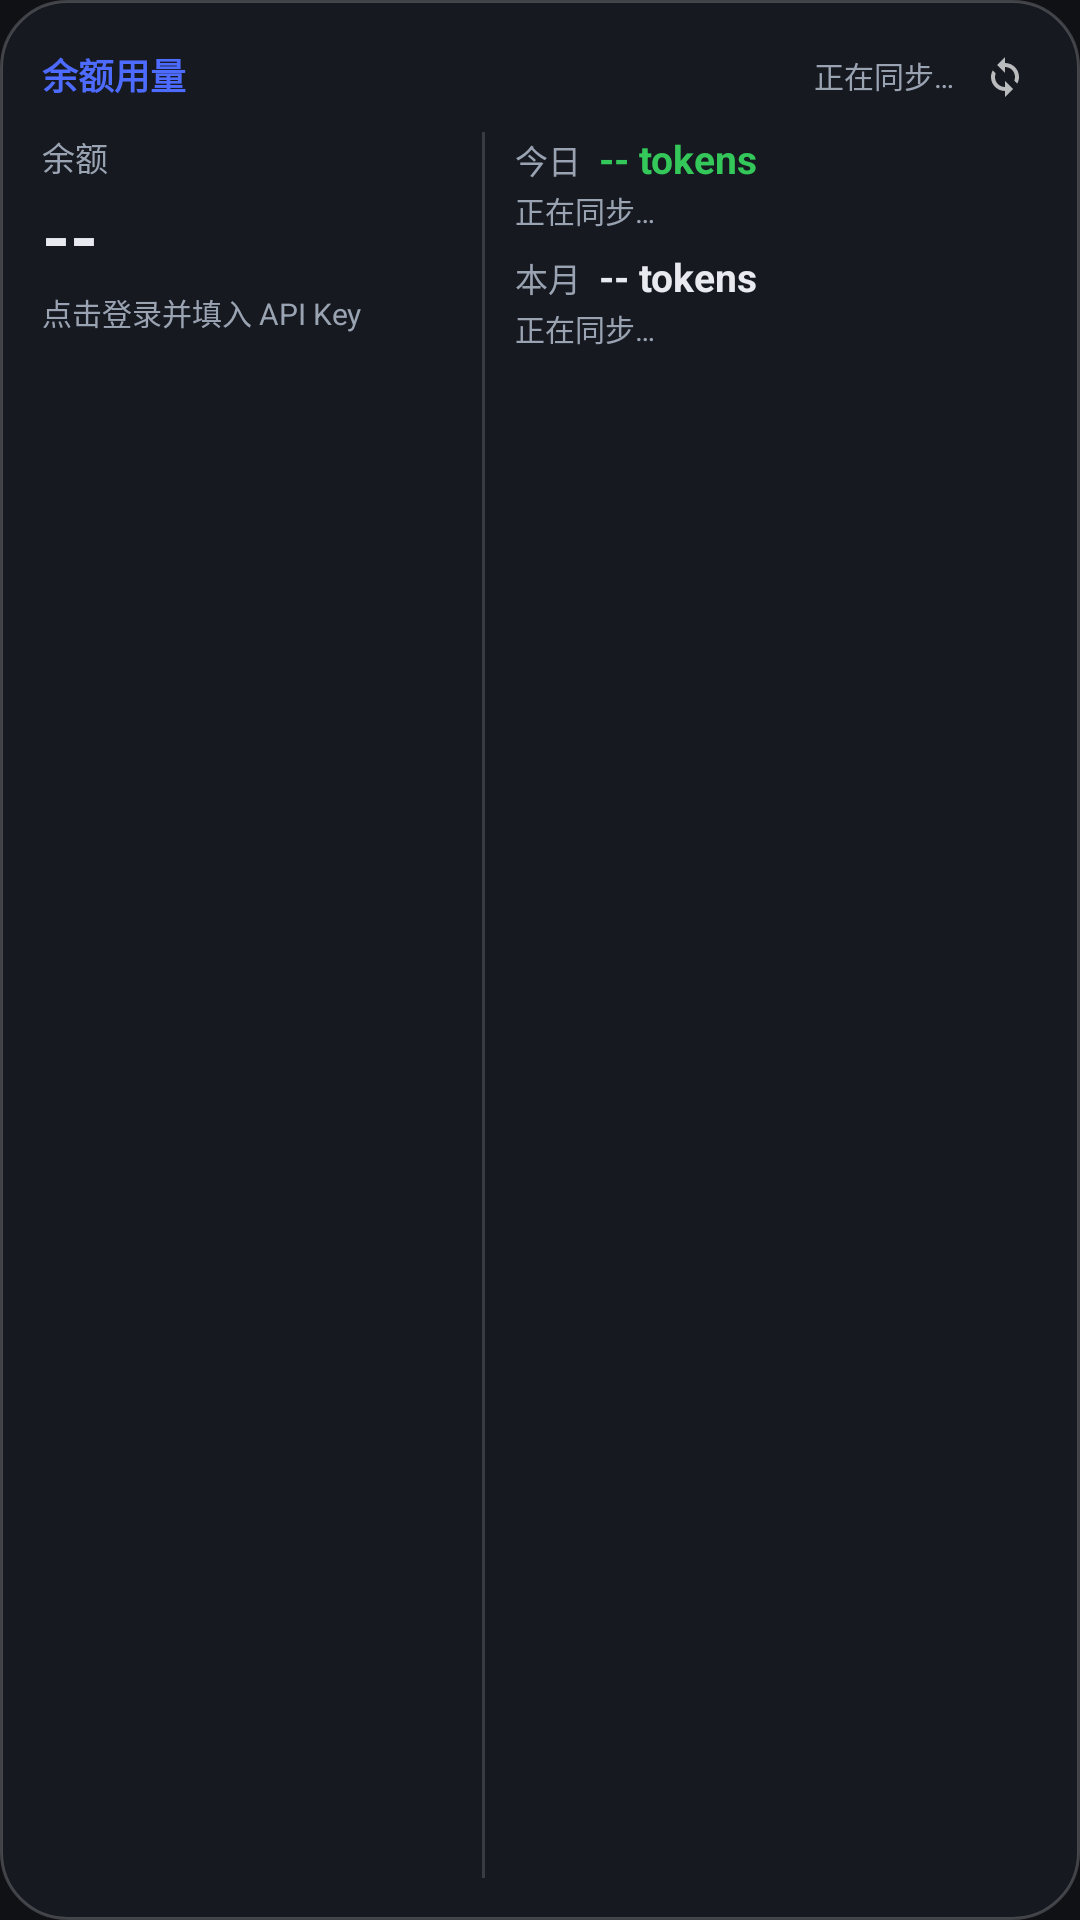

Icons on this 1080 x 1920 Android screen, each with its box as BBox(x1, y1, x2, y2):
刷新: BBox(991, 57, 1019, 97)
